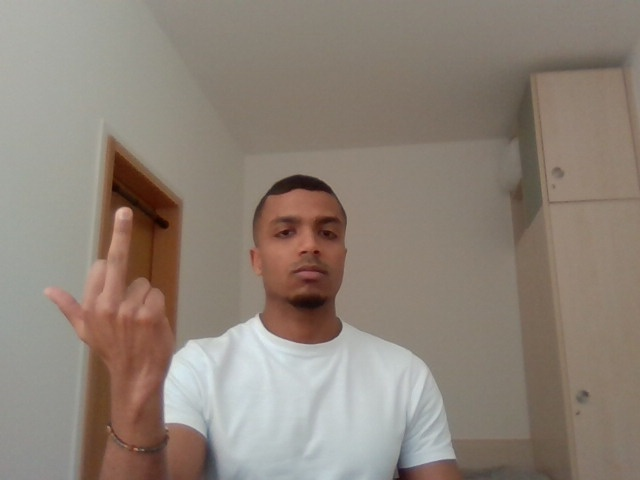fuckyou: (32, 195, 194, 411)
